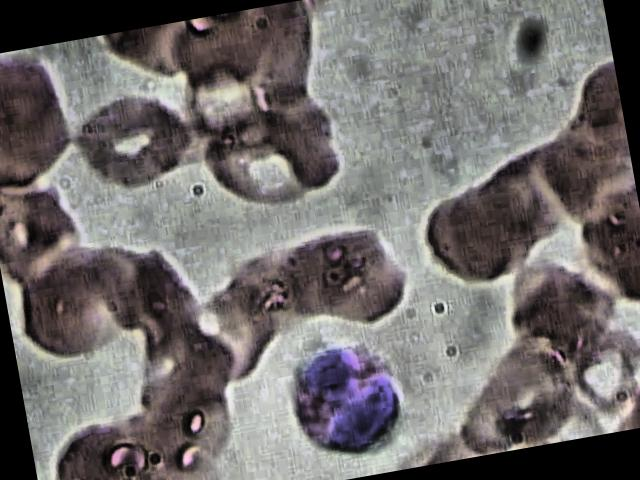RBC: (262, 210, 412, 341), (484, 241, 634, 372), (0, 237, 148, 368), (193, 99, 325, 220), (123, 309, 255, 430), (66, 86, 199, 198), (414, 172, 532, 292), (468, 334, 584, 454), (0, 44, 79, 198), (43, 409, 154, 480)
WBC: (274, 323, 416, 464)
